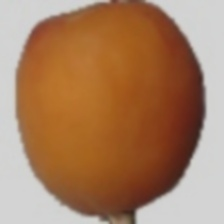apricot: (6, 10, 202, 203)
